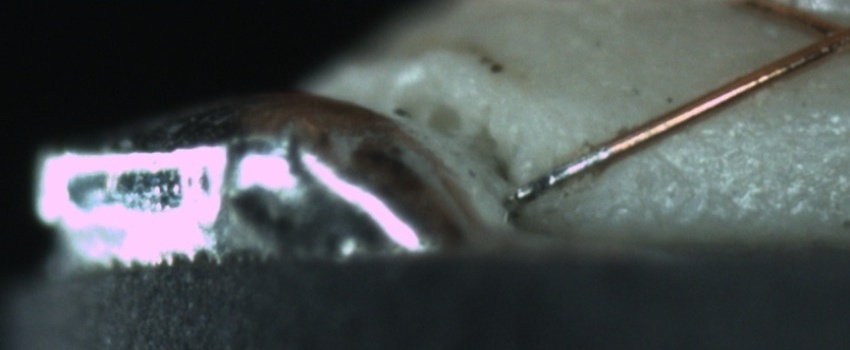CL: (798, 4, 850, 63)
TS: (503, 147, 607, 205)
